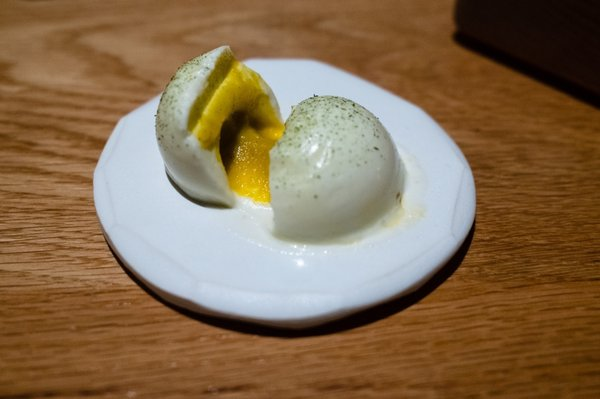curry: (14, 2, 600, 395)
salad: (154, 43, 286, 210)
